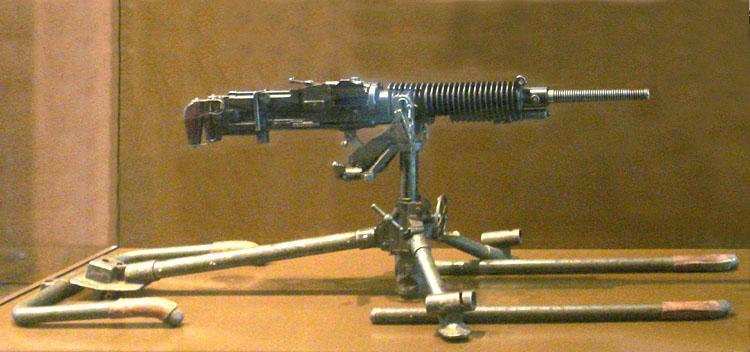gun: (151, 41, 669, 214)
